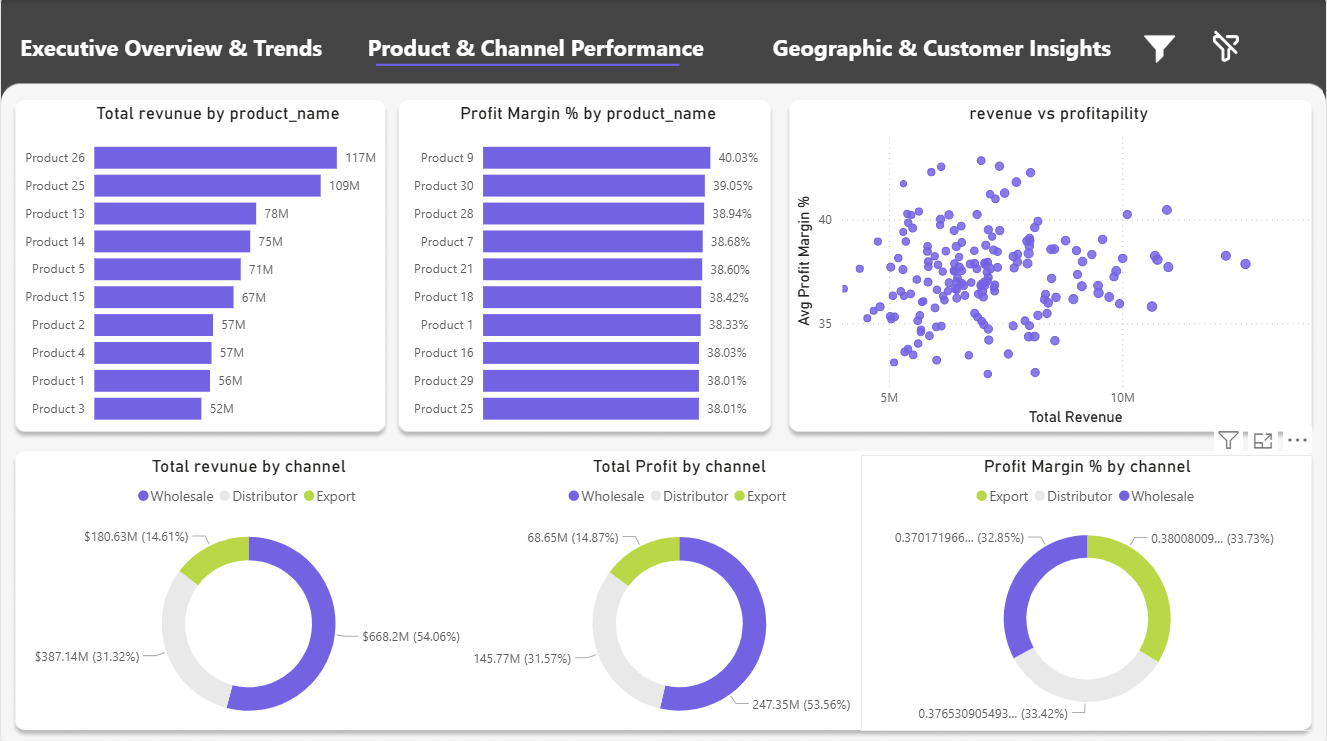

The dashboard page shown, as its layout file describes it:
{"tool":"powerbi","page":{"name":"Product & Channel Performance","canvas":[1280,720],"ordinal":1},"visuals":[{"type":"barChart","fields":{"Category":["Sales_data.product_name"],"Y":["measure.Total revunue"]},"box":[13.7,98.8,392.5,322.5],"z":0},{"type":"barChart","fields":{"Category":["Sales_data.product_name"],"Y":["measure.Profit Margin %"]},"box":[388.3,98.8,356.8,322.5],"z":1000},{"type":"scatterChart","title":"revenue vs profitapility","fields":{"X":["Customer Summary.Total Revenue"],"Y":["Customer Summary.Avg Profit Margin %"],"Size":["Sum(Customer Summary.Order Count)"]},"box":[762.9,98.8,517.1,317.1],"z":2000},{"type":"donutChart","fields":{"Category":["Sales_data.channel"],"Y":["measure.Total revunue"]},"box":[24.3,438.6,430,277.1],"z":3000},{"type":"donutChart","fields":{"Category":["Sales_data.channel"],"Y":["measure.Total Profit"]},"box":[442.9,438.6,424.3,277.1],"z":4000},{"type":"donutChart","fields":{"Category":["Sales_data.channel"],"Y":["measure.Profit Margin %"]},"box":[830,438.6,437.1,267.1],"z":5000},{"type":"actionButton","box":[0,25.7,328.6,40],"z":6000},{"type":"actionButton","box":[345.7,25.7,340,40],"z":7000},{"type":"actionButton","box":[735.7,25.7,344.3,40],"z":8000},{"type":"image","box":[1160.7,24.3,43.6,45],"z":9000},{"type":"image","box":[1097.9,20.5,41,53.1],"z":10000}]}

Visuals, with their boxes in screenshot pixels (x1, y1, x2, y2), scaled from the page's 1280x720 canvas onto the 1327x741 screenshot:
barChart - Sales_data.product_name x measure.Total revunue: rect(14, 102, 421, 434)
barChart - Sales_data.product_name x measure.Profit Margin %: rect(403, 102, 772, 434)
"revenue vs profitapility" scatterChart: rect(791, 102, 1326, 428)
donutChart - Sales_data.channel x measure.Total revunue: rect(25, 451, 471, 737)
donutChart - Sales_data.channel x measure.Total Profit: rect(459, 451, 899, 737)
donutChart - Sales_data.channel x measure.Profit Margin %: rect(860, 451, 1314, 726)
actionButton: rect(0, 26, 341, 68)
actionButton: rect(358, 26, 711, 68)
actionButton: rect(763, 26, 1120, 68)
image: rect(1203, 25, 1249, 71)
image: rect(1138, 21, 1181, 76)
